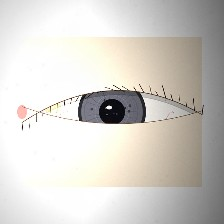pinguecula_lesion: (35, 94, 70, 122)
